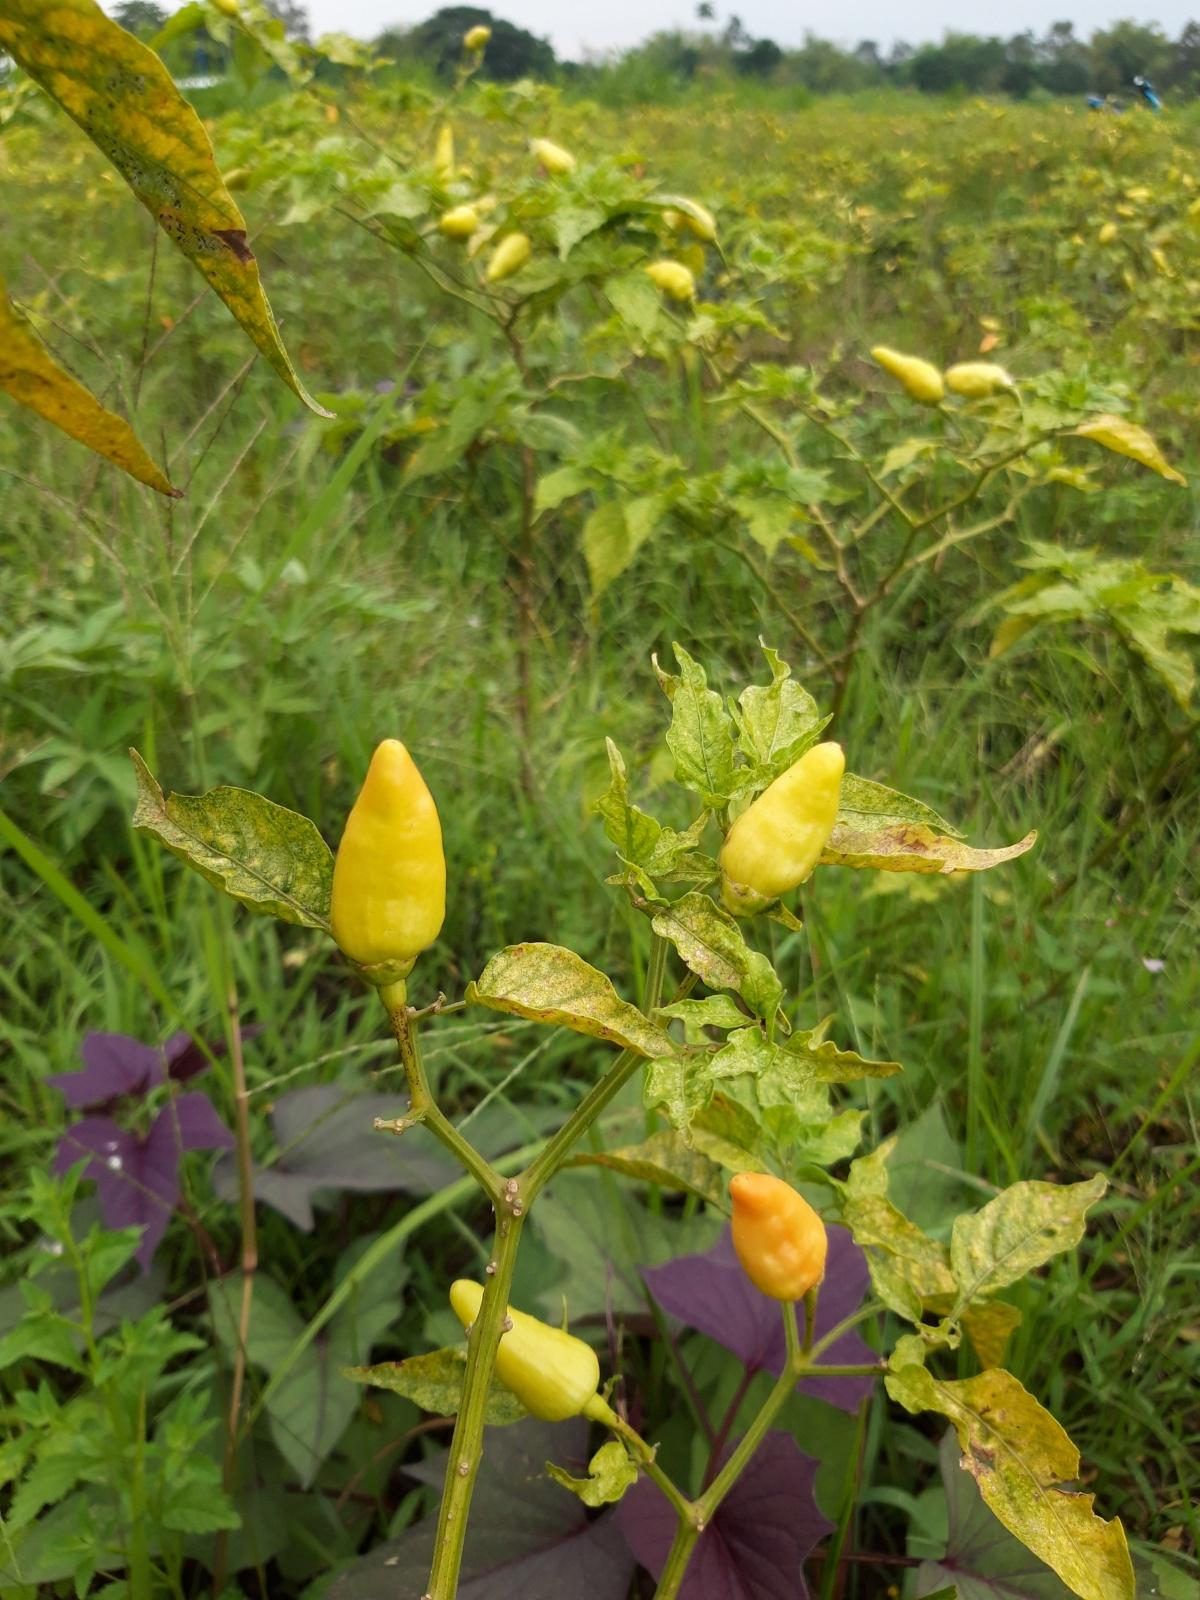cabai_normal: (329, 740, 445, 966), (449, 1280, 600, 1421), (721, 743, 843, 897), (725, 1173, 826, 1300), (871, 348, 942, 402), (945, 363, 1007, 396), (487, 236, 528, 282), (645, 262, 695, 299), (437, 208, 482, 237), (536, 141, 574, 174), (463, 28, 494, 47)
